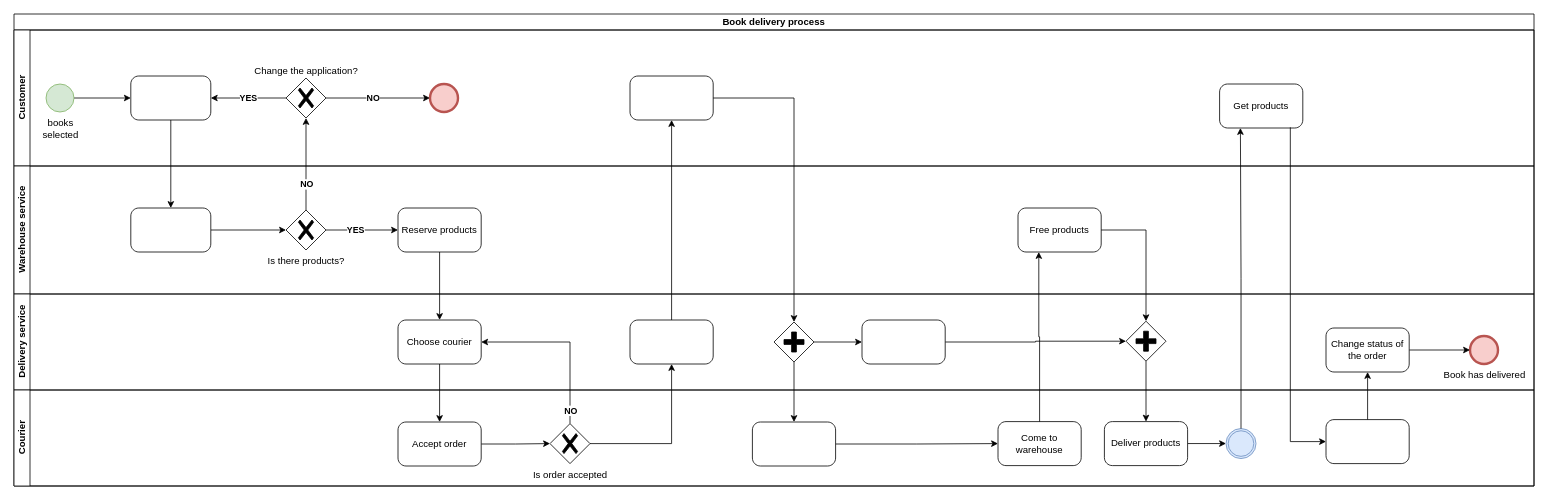
The diagram is 1548 pixels wide and 500 high, and some of its shapes have lost their labels. Here are the shapes that lost their labels. From the top down, the box of each, then its label:
(130, 75, 211, 120): Form application
(429, 83, 458, 112): Application canceled
(629, 75, 713, 120): Choose comfortable period of time
(130, 207, 211, 252): Check products
(629, 319, 713, 364): Find available periods of the delivery
(861, 319, 945, 364): Reserve time for currier
(752, 421, 836, 466): Receive new order schedule
(1225, 428, 1256, 459): The courier has arrived
(1325, 419, 1409, 464): Complete order
